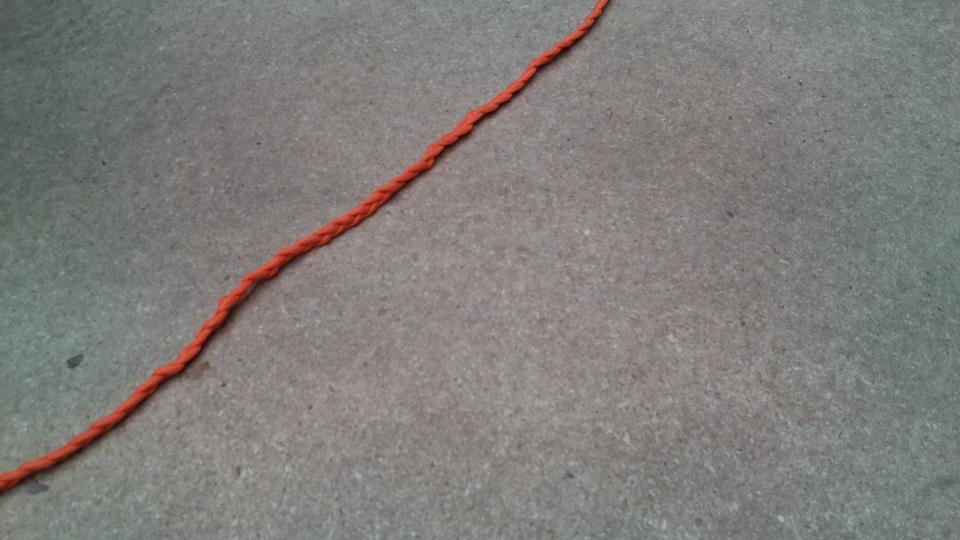rope: (1, 1, 599, 478)
